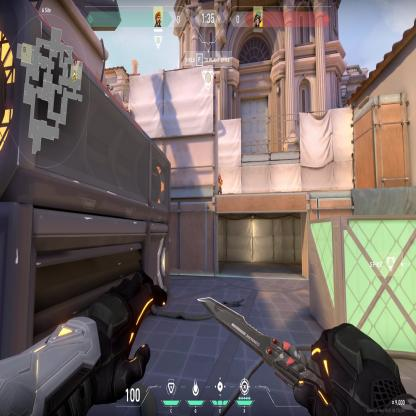enemy: (218, 172, 223, 195)
